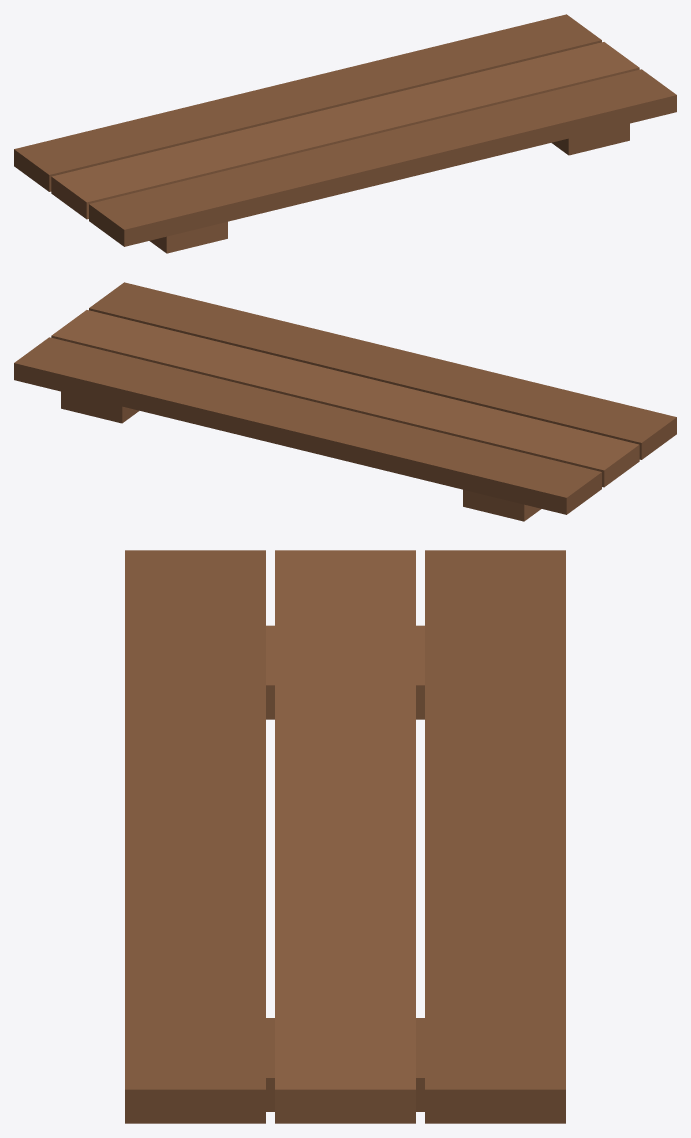
File: Shelf.fbx
The picture shows the model from 3 angles, top to bottom: view 1: azimuth 30°, elevation 25°; view 2: azimuth 150°, elevation 25°; view 3: azimuth 270°, elevation 25°; orthographic projection. The views are drawn at different scales.
Visible parts, largest first — view 1: Shelf; view 2: Shelf; view 3: Shelf.
Boxes of the visible parts, bbox=[...] form: Shelf: bbox=[14, 14, 676, 253]; Shelf: bbox=[14, 282, 676, 521]; Shelf: bbox=[125, 550, 565, 1123].
Size of the model in its own units: 136 by 8 by 46.86.
